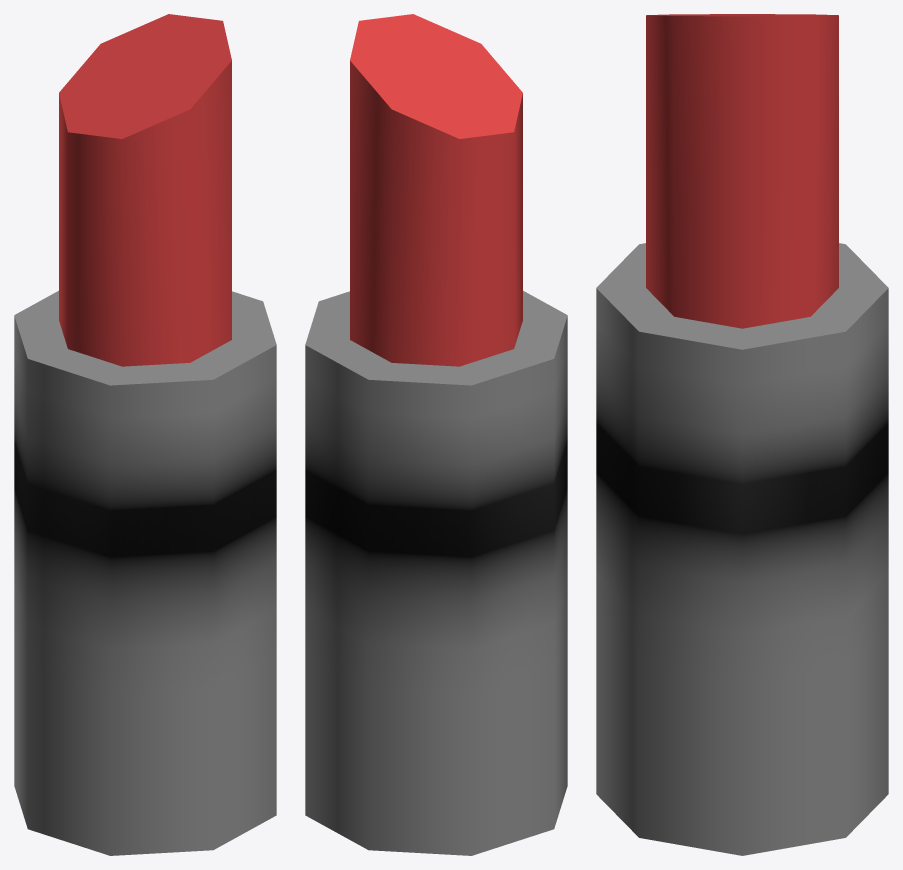
The model's file is LipStick.fbx.
The picture shows the model from 3 angles, left to right: view 1: azimuth 30°, elevation 25°; view 2: azimuth 150°, elevation 25°; view 3: azimuth 270°, elevation 25°; orthographic projection. The views are drawn at different scales.
Visible parts, largest first — view 1: LipStick; view 2: LipStick; view 3: LipStick.
Boxes of the visible parts, bbox=[...] form: LipStick: bbox=[14, 14, 276, 855]; LipStick: bbox=[305, 14, 567, 855]; LipStick: bbox=[596, 14, 888, 855].
Bounding box in the file's own units: 65.74 × 203 × 65.74.
